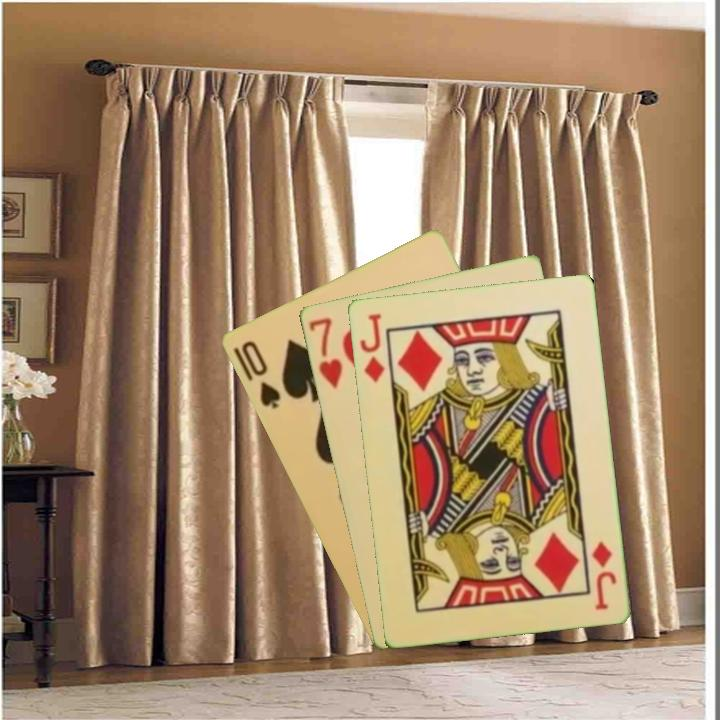10s: (237, 337, 283, 412)
7h: (305, 313, 345, 392)
Jd: (355, 309, 387, 385), (587, 537, 619, 612)
